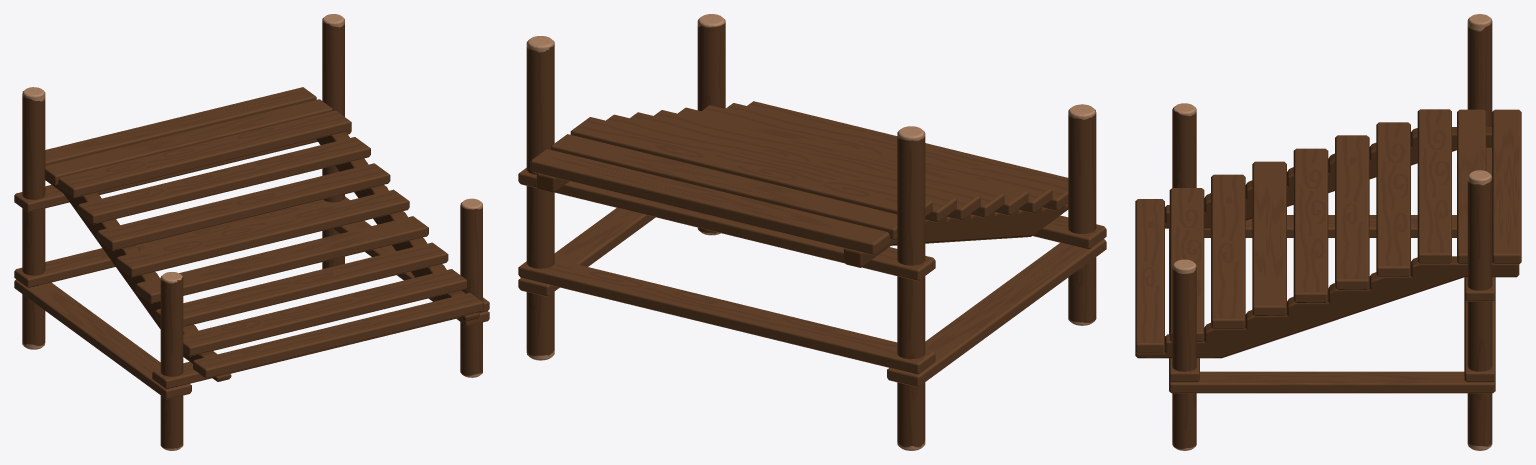
The model's file is M_Wide_Stairs.fbx.
3 views of the same model, side by side, from view 1: azimuth 30°, elevation 25°; view 2: azimuth 150°, elevation 25°; view 3: azimuth 270°, elevation 25° (orthographic). The views are drawn at different scales.
Parts seen in each view (by area): view 1: M_Wide_Stairs; view 2: M_Wide_Stairs; view 3: M_Wide_Stairs.
Part boxes in pixels (x1=…): M_Wide_Stairs: x1=14, y1=14, x2=489, y2=450; M_Wide_Stairs: x1=518, y1=14, x2=1106, y2=450; M_Wide_Stairs: x1=1135, y1=14, x2=1521, y2=450.
Size of the model in its own units: 815 by 611 by 785.
